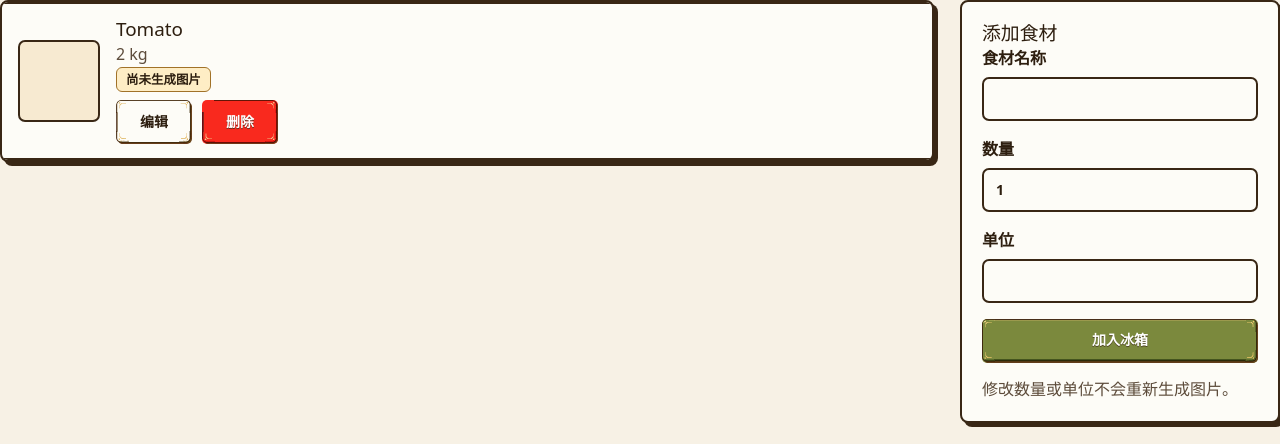
Scenario: FridgeWorkbench › keeps fridge quantity steppers at whole-number precision when adding and editing items
Click the button "编辑".
click(154, 122)  # box [116, 100, 192, 144]
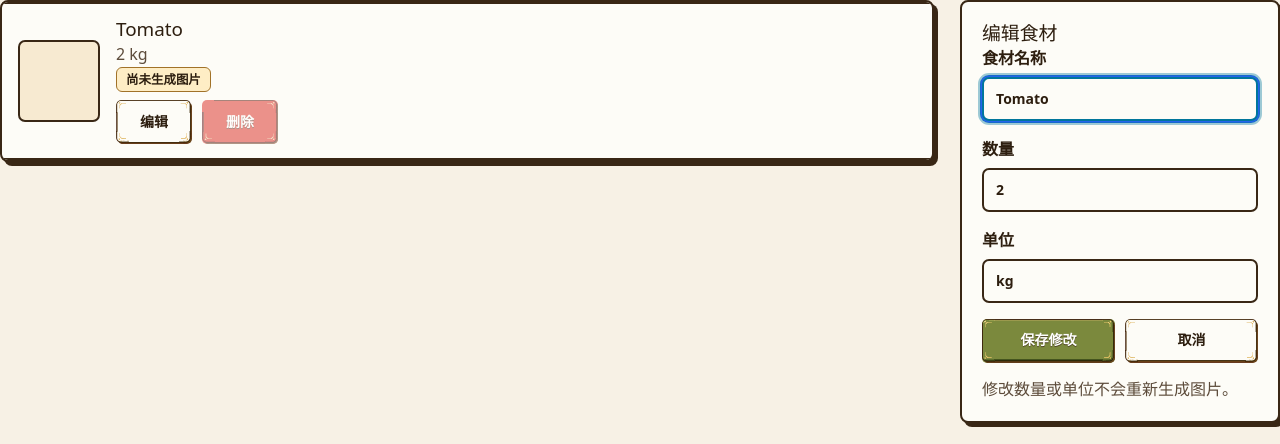
Now the number field labelled "数量" holds "2", box [982, 168, 1258, 212]
